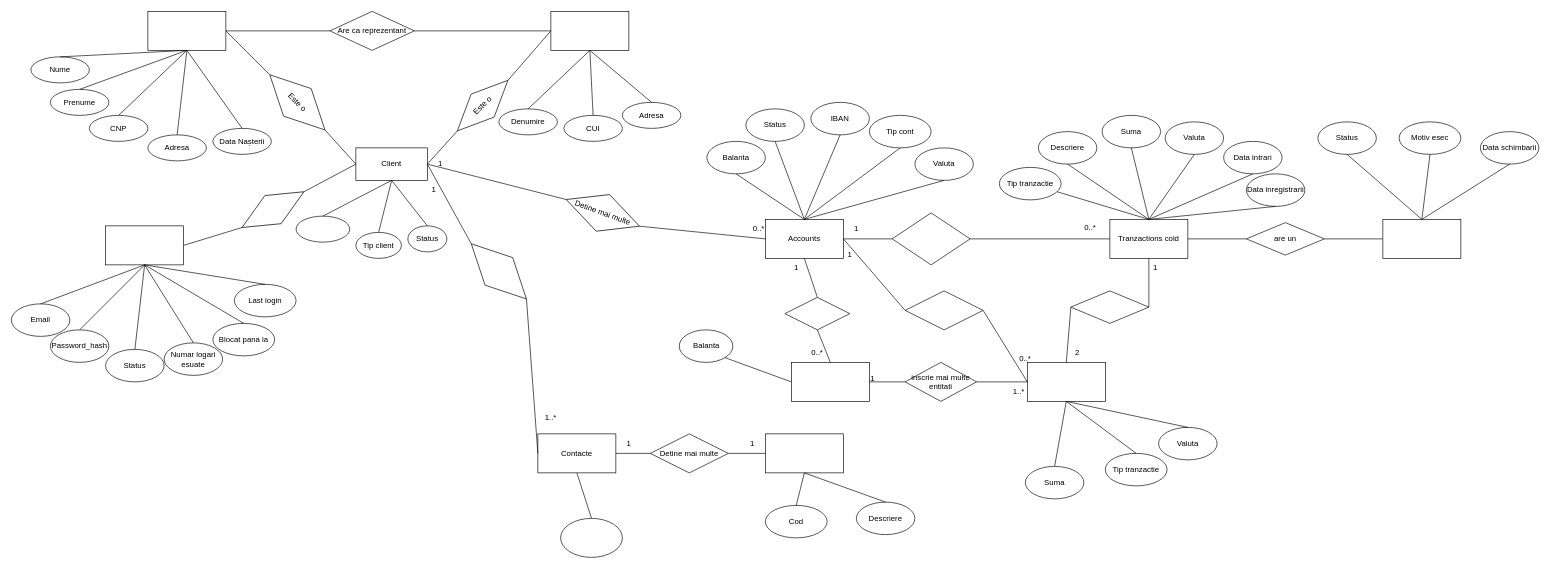
Some shapes in this 1550 by 569 pixel diagram are drawn without their labels. Here are the shapes that lost their labels. From the top down, the box of each, then its label:
(147, 11, 226, 50): Persoane Fizice
(550, 11, 629, 50): Persoane Juridice
(233, 177, 312, 242): Se Logeaza in
(295, 215, 350, 242): Cod client
(105, 225, 184, 265): Users App
(891, 212, 970, 265): Realizeaza mai multe
(1382, 219, 1461, 258): Transactions hot
(457, 229, 540, 313): Poate fi contactat prin
(784, 297, 850, 330): are mai multe
(904, 290, 983, 330): Comunica cu
(1070, 290, 1149, 323): Scrie in
(791, 362, 869, 401): Snapshoturi
(1027, 362, 1105, 401): Ledger
(765, 433, 843, 473): Metode conctact
(560, 518, 622, 557): element_contact
